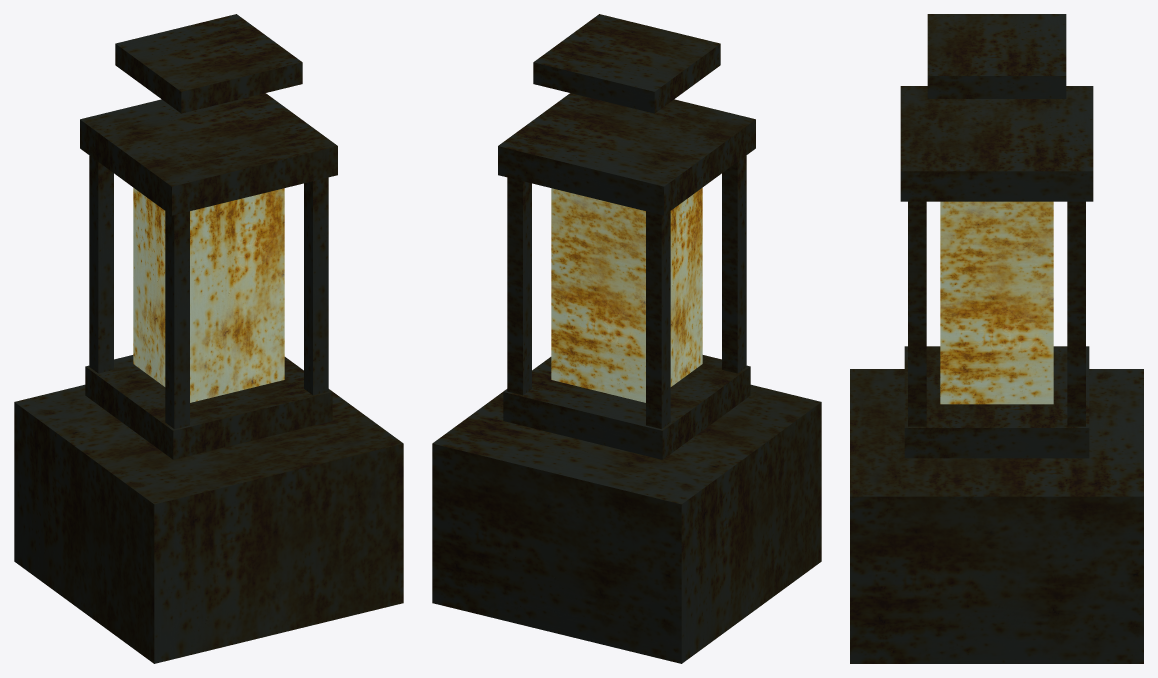
Rendered from save_point.glb.
The picture shows the model from 3 angles, left to right: view 1: azimuth 30°, elevation 25°; view 2: azimuth 150°, elevation 25°; view 3: azimuth 270°, elevation 25°; orthographic projection. The views are drawn at different scales.
Bounding box in the file's own units: 0.72 × 1.46 × 0.7.
Materials: 2 (2 with a texture image).
